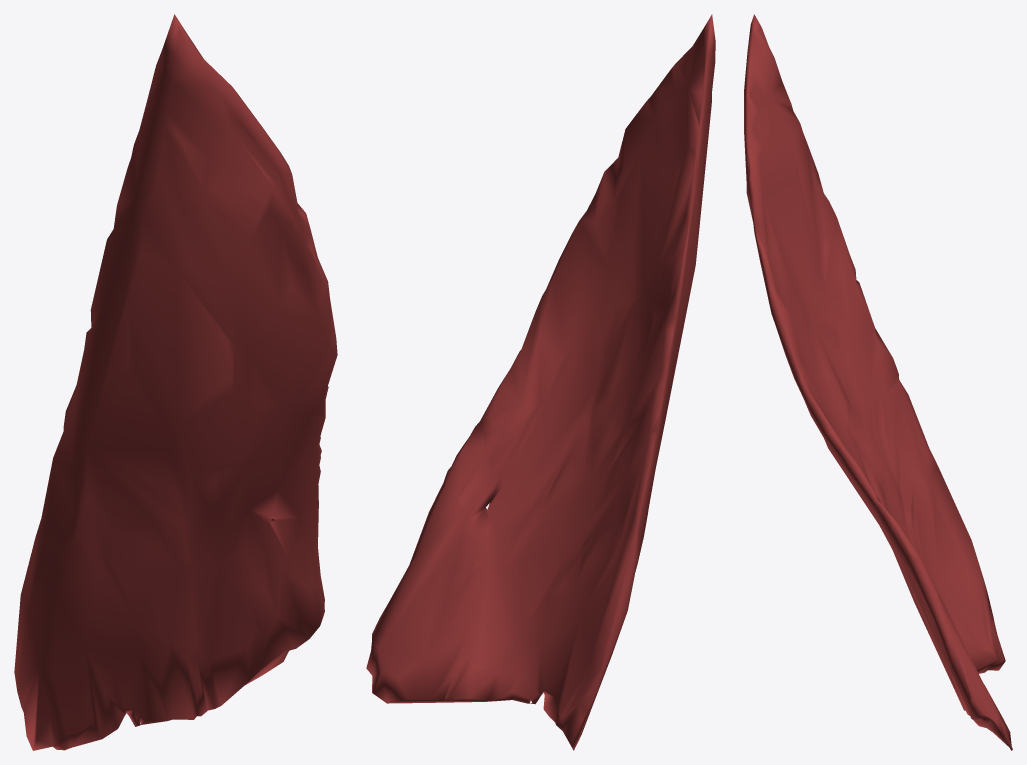
The model's file is pyramidalis-muscle-l.glb.
3 renders of one model, left to right at view 1: azimuth 30°, elevation 25°; view 2: azimuth 150°, elevation 25°; view 3: azimuth 270°, elevation 25°, orthographic. The views are drawn at different scales.
Visible parts, largest first — view 1: Pyramidalis muscle.l; view 2: Pyramidalis muscle.l; view 3: Pyramidalis muscle.l.
Part boxes in pixels (box(x1,y1,x2,y2)): Pyramidalis muscle.l: box(14, 14, 337, 750); Pyramidalis muscle.l: box(366, 14, 715, 750); Pyramidalis muscle.l: box(744, 14, 1012, 750).
Size of the model in its own units: 0.0279 by 0.0717 by 0.0269.
